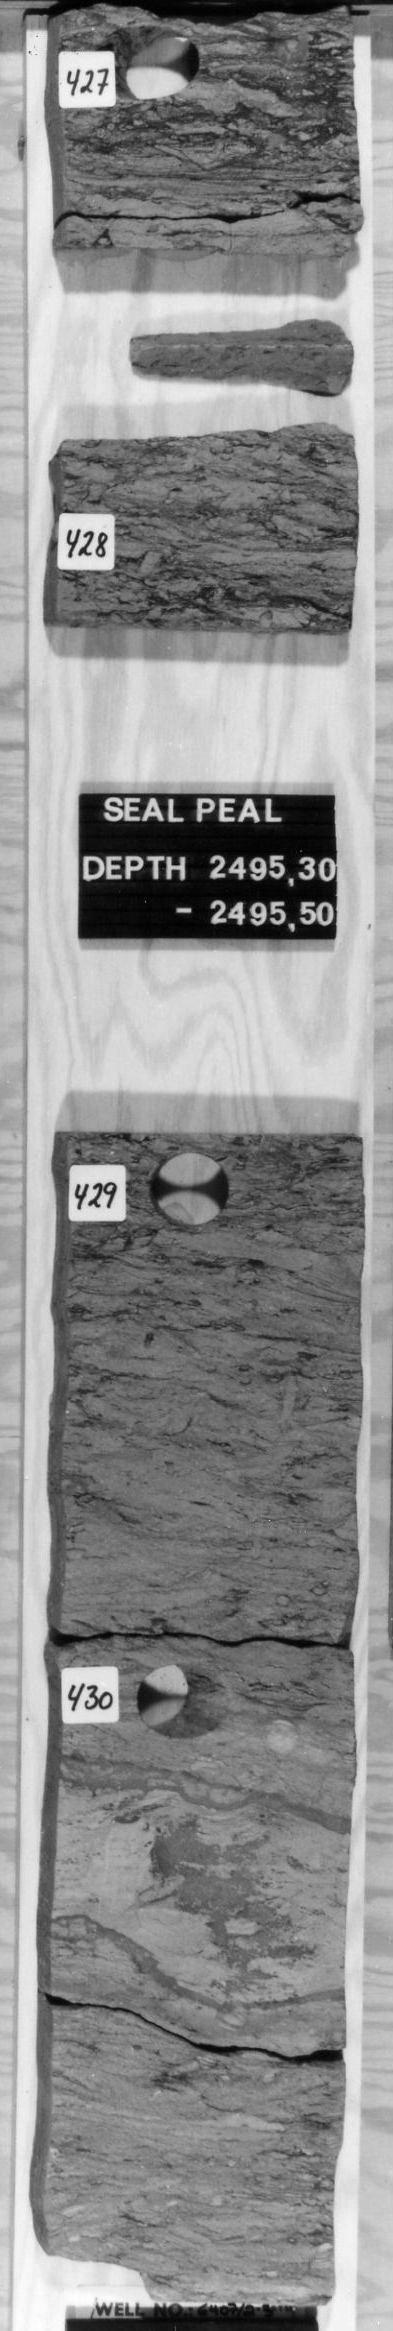hplug: (89, 30, 211, 110), (131, 1664, 225, 1745), (144, 1151, 235, 1231)
scal: (63, 233, 351, 346), (63, 349, 344, 455)
